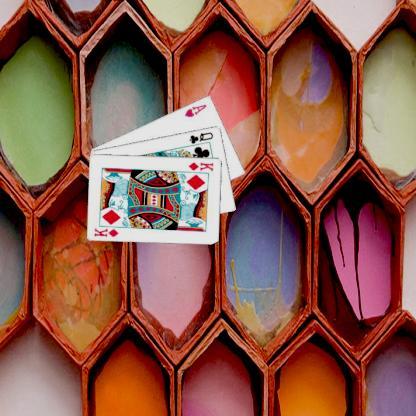AH: (182, 101, 208, 118)
KD: (186, 160, 214, 172), (92, 226, 120, 238)
QC: (186, 129, 214, 145)
